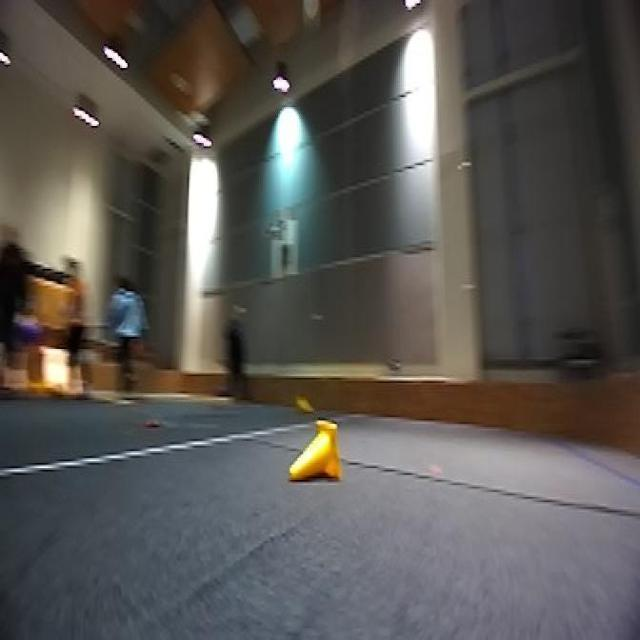frc_cone: (294, 424, 346, 492), (291, 390, 319, 419)
